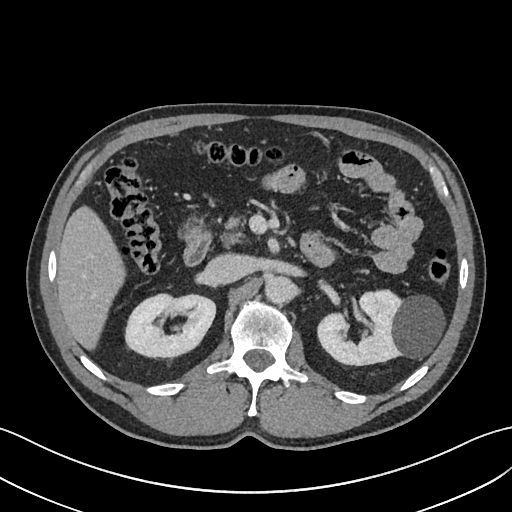Lesion: (389, 287, 449, 363)
